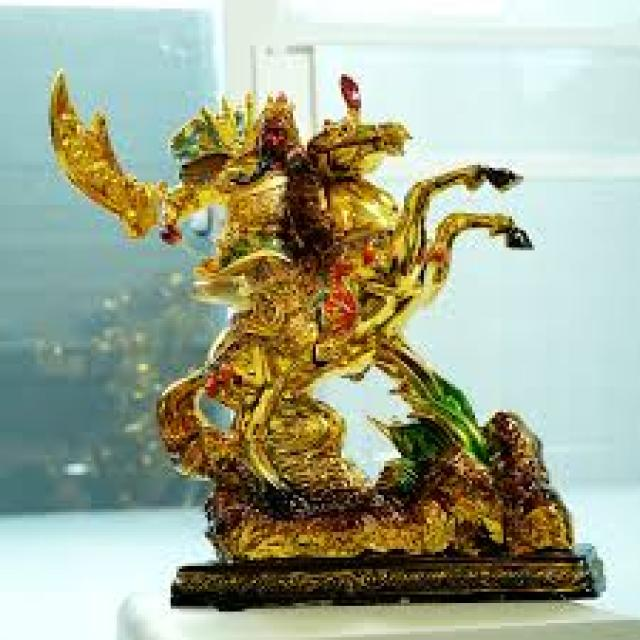Guan Yu: (207, 80, 321, 296)
